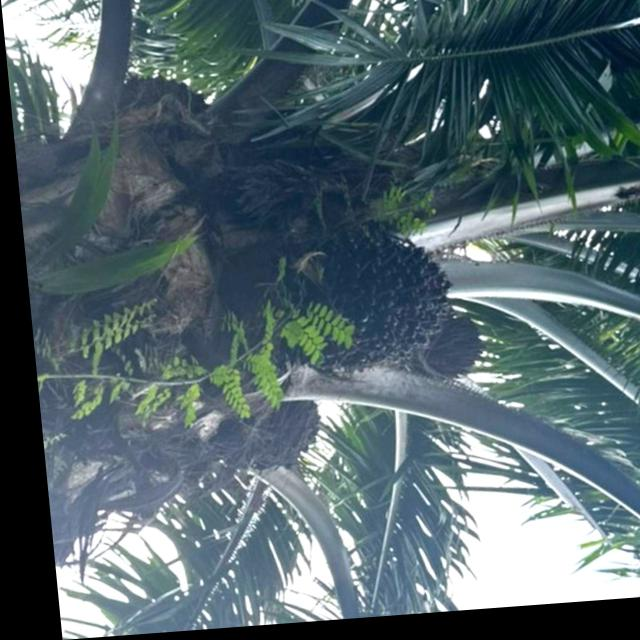almost: (283, 231, 452, 384)
